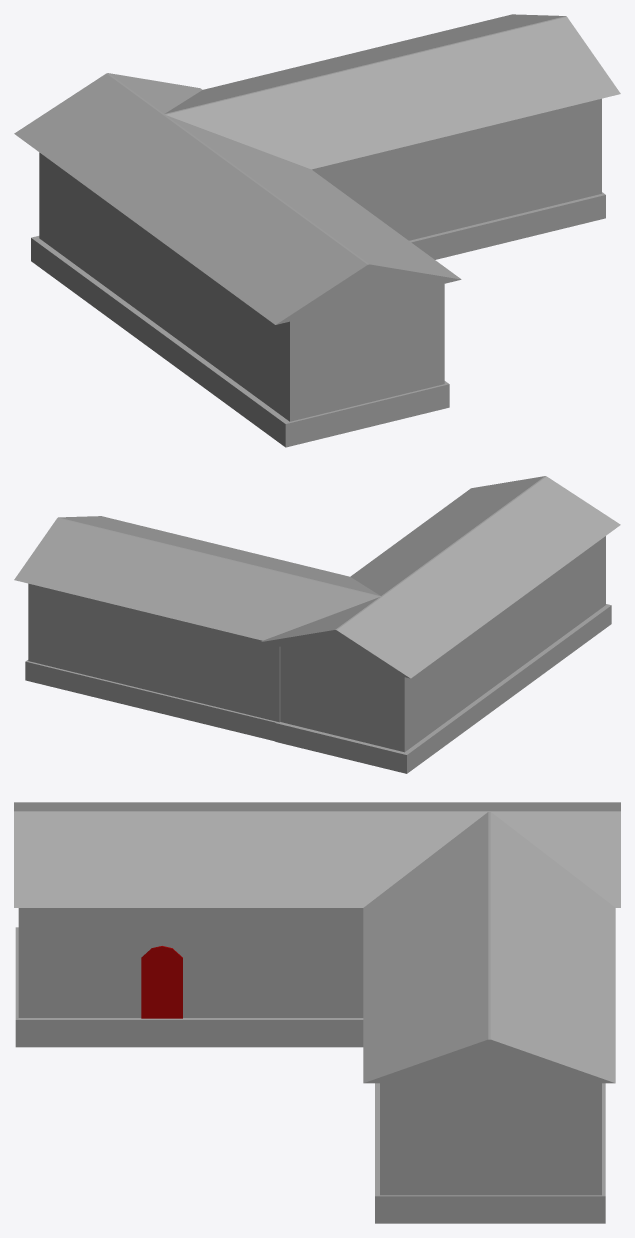
Rendered from Farm House.fbx.
3 renders of one model, top to bottom at view 1: azimuth 30°, elevation 25°; view 2: azimuth 150°, elevation 25°; view 3: azimuth 270°, elevation 25°, orthographic. The views are drawn at different scales.
Visible parts, largest first — view 1: pCube5, pasted__pCube5, pCube3, pCube4, pCube1, pCube2; view 2: pCube5, pasted__pCube5, pCube3, pCube4, pCube1, pCube2; view 3: pasted__pCube5, pCube5, pCube3, pCube4, pCube1, pCube2, pCube6.
Part boxes in pixels (bbox=[...]): pCube5: bbox=[14, 73, 461, 324]; pasted__pCube5: bbox=[164, 14, 620, 169]; pCube3: bbox=[39, 152, 444, 421]; pCube4: bbox=[312, 98, 601, 240]; pCube1: bbox=[31, 236, 449, 447]; pCube2: bbox=[409, 192, 605, 259]; pCube5: bbox=[261, 476, 620, 678]; pasted__pCube5: bbox=[14, 516, 380, 640]; pCube3: bbox=[280, 536, 605, 752]; pCube4: bbox=[28, 583, 280, 722]; pCube1: bbox=[275, 604, 611, 773]; pCube2: bbox=[25, 660, 276, 741]; pasted__pCube5: bbox=[363, 812, 615, 1083]; pCube5: bbox=[14, 802, 620, 907]; pCube3: bbox=[18, 908, 363, 1017]; pCube4: bbox=[380, 1083, 601, 1195]; pCube1: bbox=[15, 927, 363, 1047]; pCube2: bbox=[375, 1083, 605, 1223]; pCube6: bbox=[141, 946, 182, 1018].
Size of the model in its own units: 22.14 by 6.97 by 20.22.
